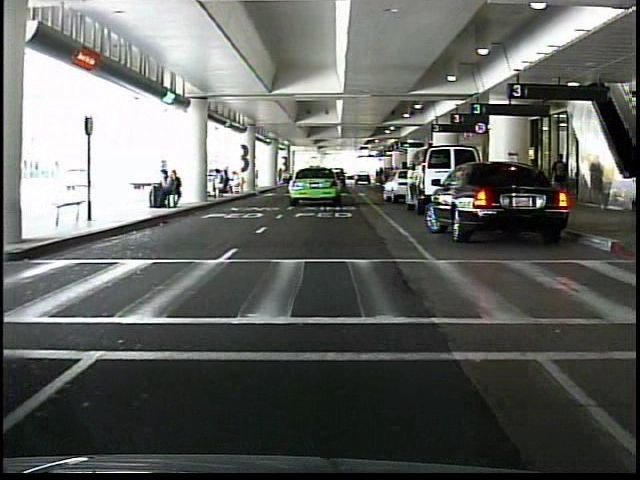person: (550, 150, 572, 212)
